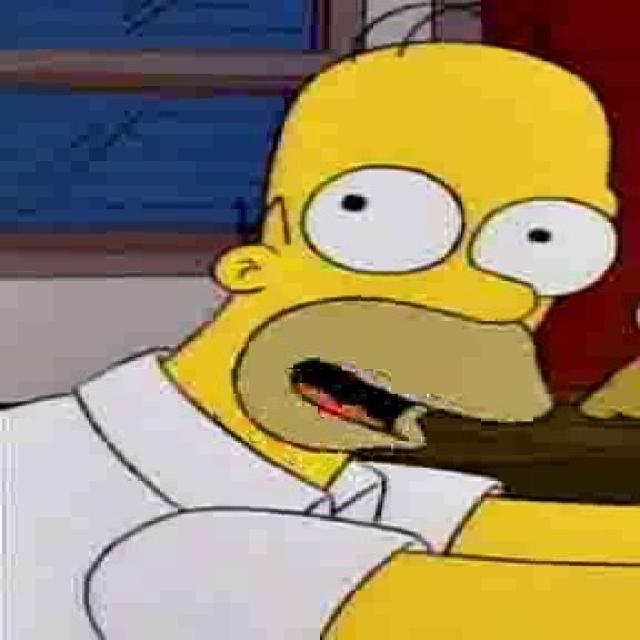Homer Simpson: (189, 6, 624, 472)
